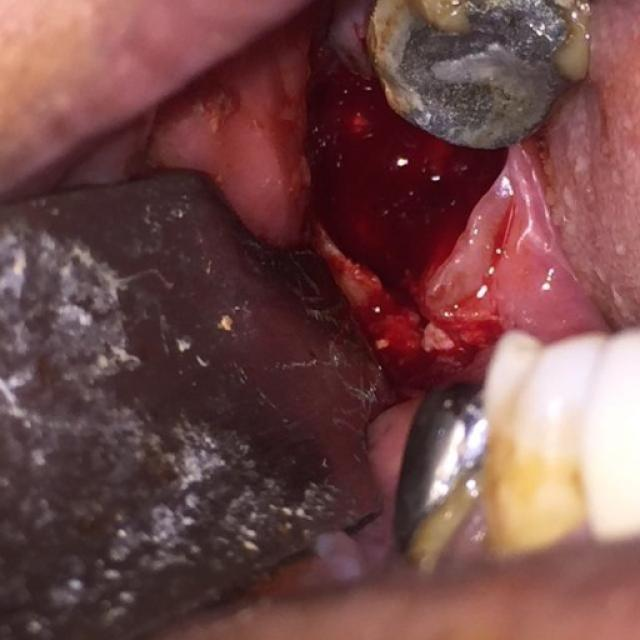cancer-detection: (150, 0, 616, 393)
processing_area: (10, 0, 639, 512)
